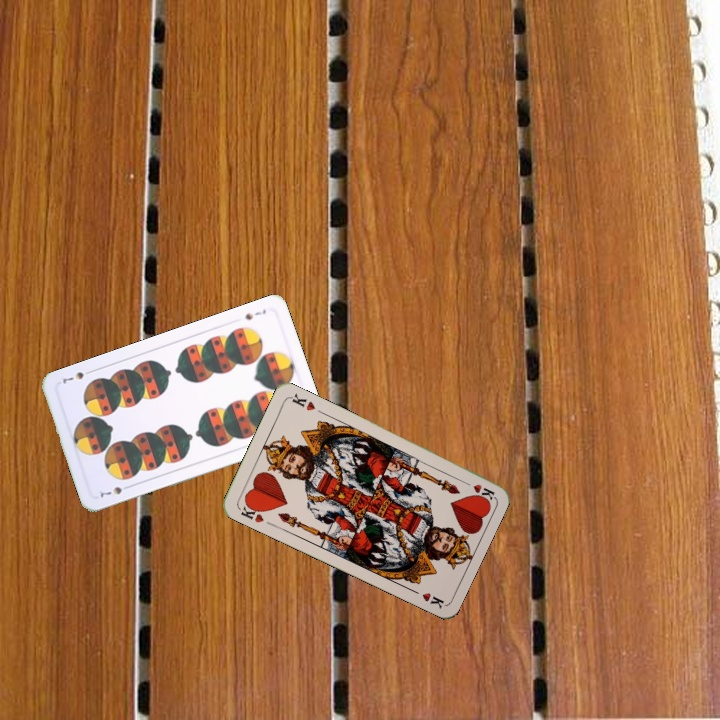HK: (457, 476, 497, 502), (235, 499, 266, 525)
S7: (95, 481, 134, 500), (241, 305, 269, 323)
